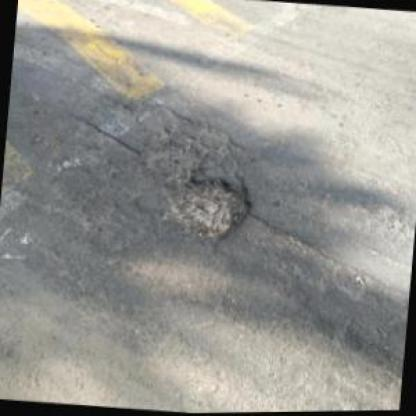pothole: (156, 168, 256, 248), (136, 134, 204, 178), (97, 95, 136, 124)
